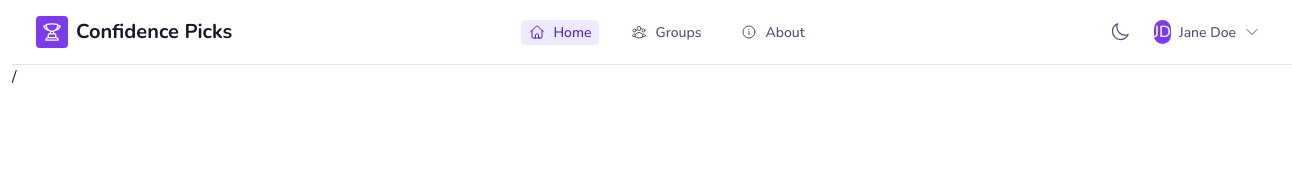
Navigation › user menu › navigates to /profile from the Profile item
Click the button with aria-label "User menu". click: (1207, 32)
box: [1146, 12, 1268, 52]
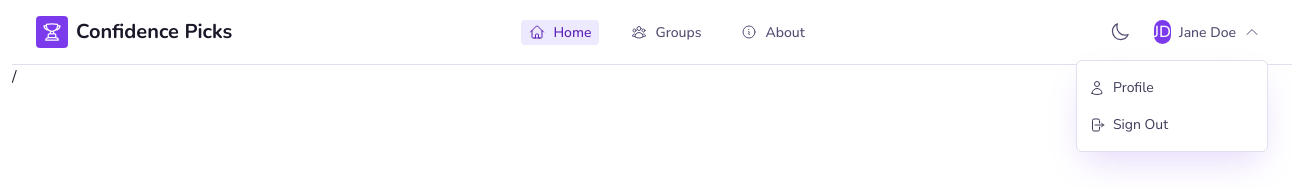
Click the menu item "Profile". click: (1172, 88)
box: [1077, 69, 1267, 106]
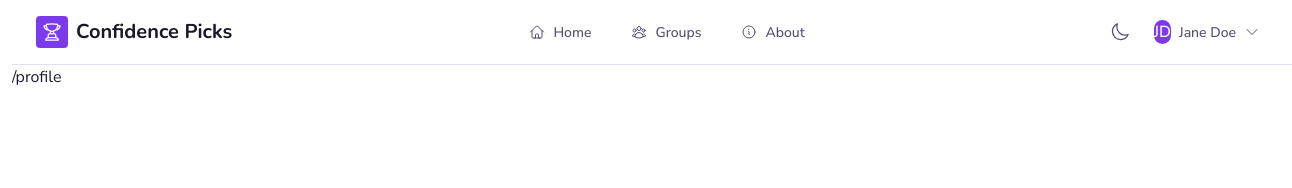
Now the text with test id "location" reads "/profile", box [12, 66, 62, 88]
